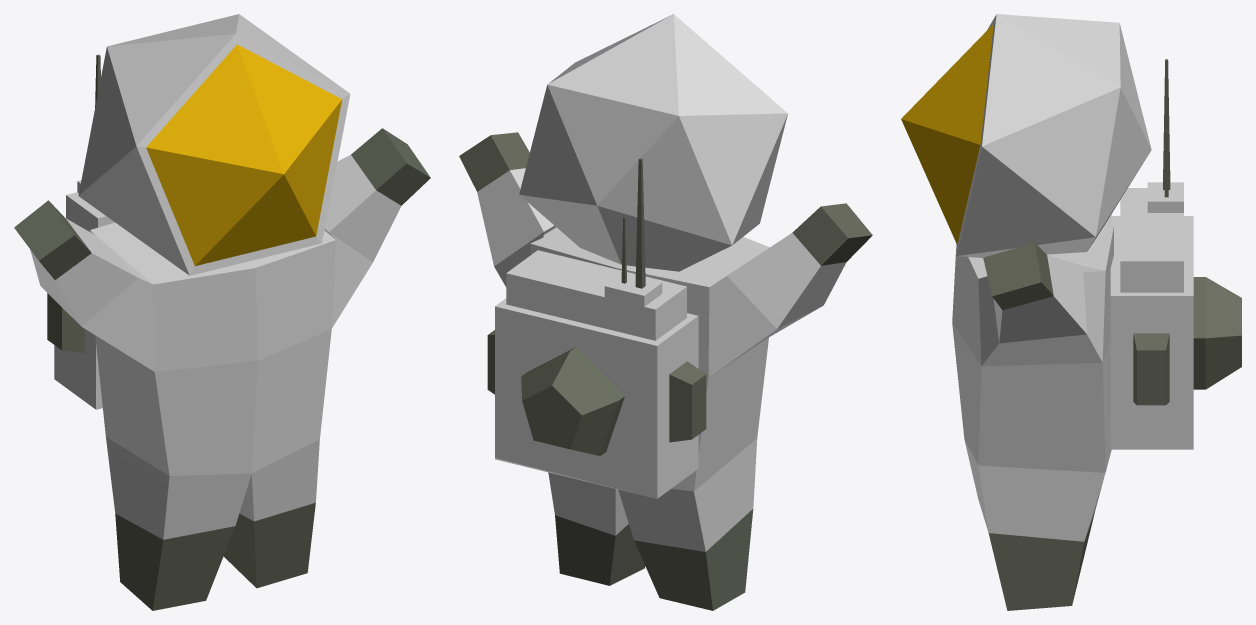
3 views of the same model, side by side, from view 1: azimuth 30°, elevation 25°; view 2: azimuth 150°, elevation 25°; view 3: azimuth 270°, elevation 25° (orthographic).
Parts seen in each view (by area): view 1: Player; view 2: Player; view 3: Player.
Part boxes in pixels (x1,y1,x2,y2): Player: [14, 14, 430, 610]; Player: [459, 14, 872, 610]; Player: [901, 14, 1241, 610].
Size of the model in its own units: 397 by 544 by 300.
